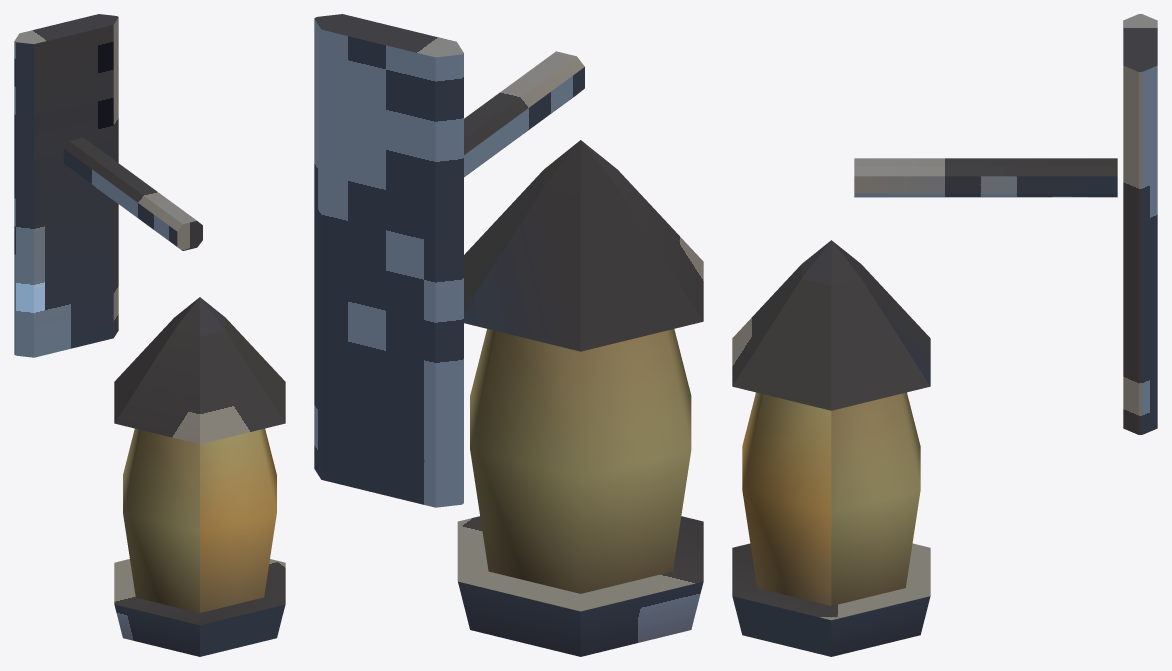
The model's file is wprop.lantern__wall.glb.
3 views of the same model, side by side, from view 1: azimuth 30°, elevation 25°; view 2: azimuth 150°, elevation 25°; view 3: azimuth 270°, elevation 25° (orthographic). The views are drawn at different scales.
Parts seen in each view (by area): view 1: kit_plate, kit_glass, kit_cap, kit_base, kit_bracket; view 2: kit_plate, kit_glass, kit_cap, kit_base, kit_bracket; view 3: kit_glass, kit_cap, kit_plate, kit_base, kit_bracket.
Part boxes in pixels (x1,y1,x2,y2): kit_plate: [14, 14, 118, 357]; kit_glass: [123, 428, 276, 612]; kit_cap: [114, 297, 285, 444]; kit_base: [114, 559, 285, 656]; kit_bracket: [63, 137, 202, 250]; kit_plate: [314, 14, 463, 507]; kit_glass: [470, 329, 691, 593]; kit_cap: [464, 140, 703, 351]; kit_base: [457, 516, 703, 656]; kit_bracket: [464, 51, 584, 177]; kit_glass: [742, 392, 920, 605]; kit_cap: [732, 240, 930, 410]; kit_plate: [1123, 14, 1157, 434]; kit_base: [732, 543, 930, 656]; kit_bracket: [854, 158, 1117, 197].
Bounding box in the file's own units: 0.2 × 0.55 × 0.3716.
3 materials, 2 textured.
